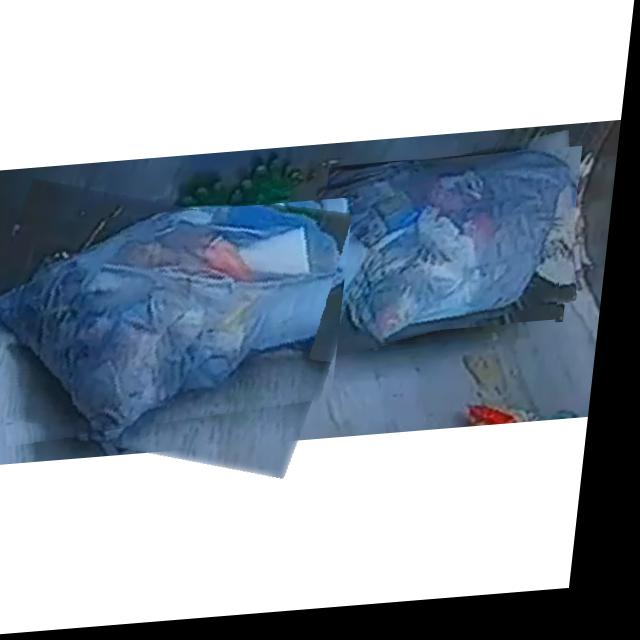other_trashbag: (0, 211, 352, 436), (322, 161, 576, 353)
